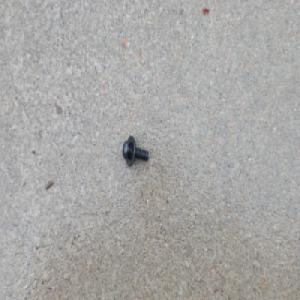BoltWasher: (122, 134, 149, 166)
